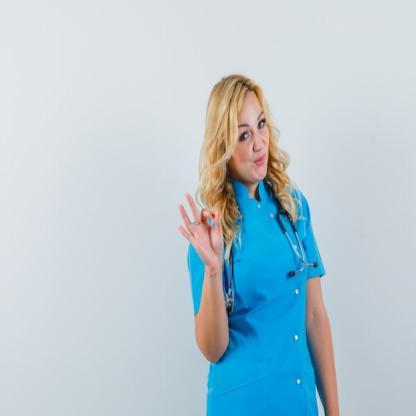ok: (176, 190, 226, 275)
